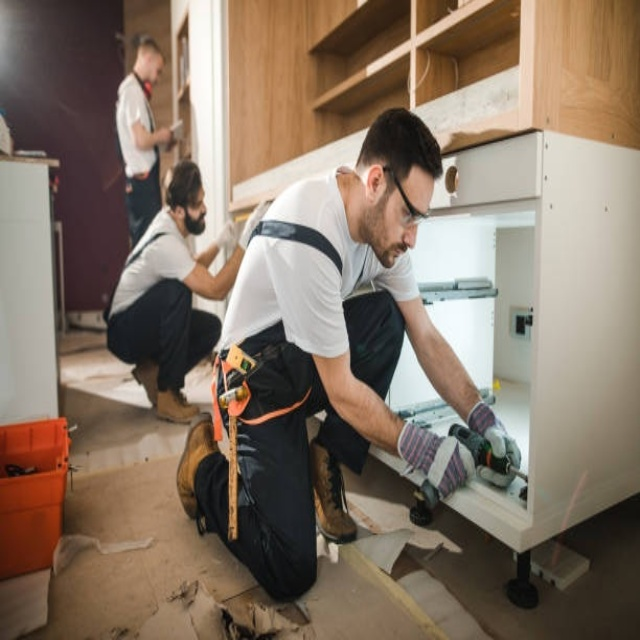Gafas: (379, 163, 431, 226)
Guantes: (465, 392, 525, 504), (399, 414, 472, 505), (239, 198, 272, 251), (208, 218, 239, 256)
Sin_gafas: (187, 197, 206, 211)
Sin_mascara: (383, 243, 411, 267)
